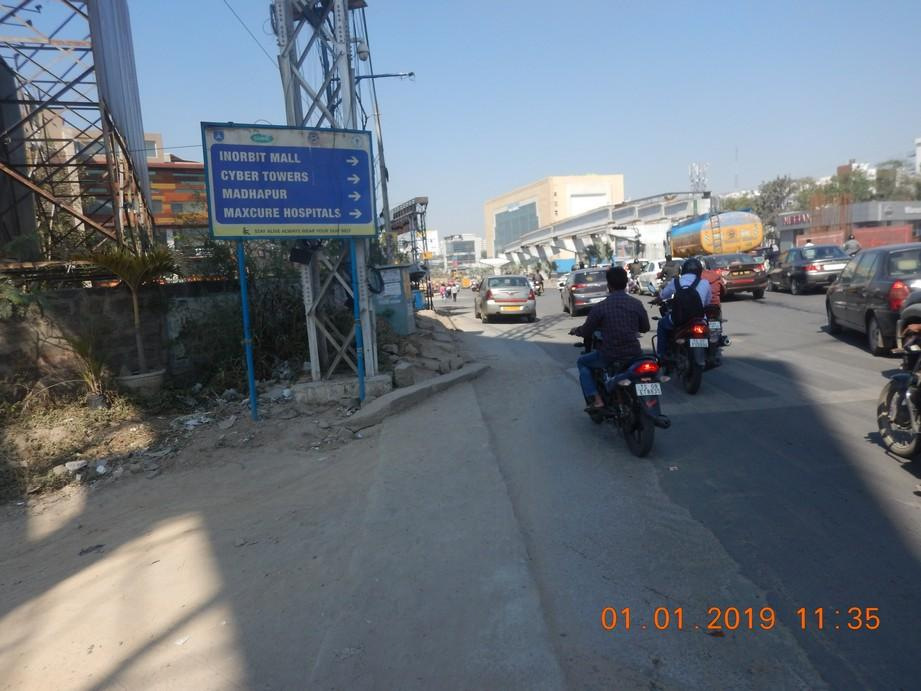plate: (636, 382, 662, 396), (688, 337, 710, 348)
